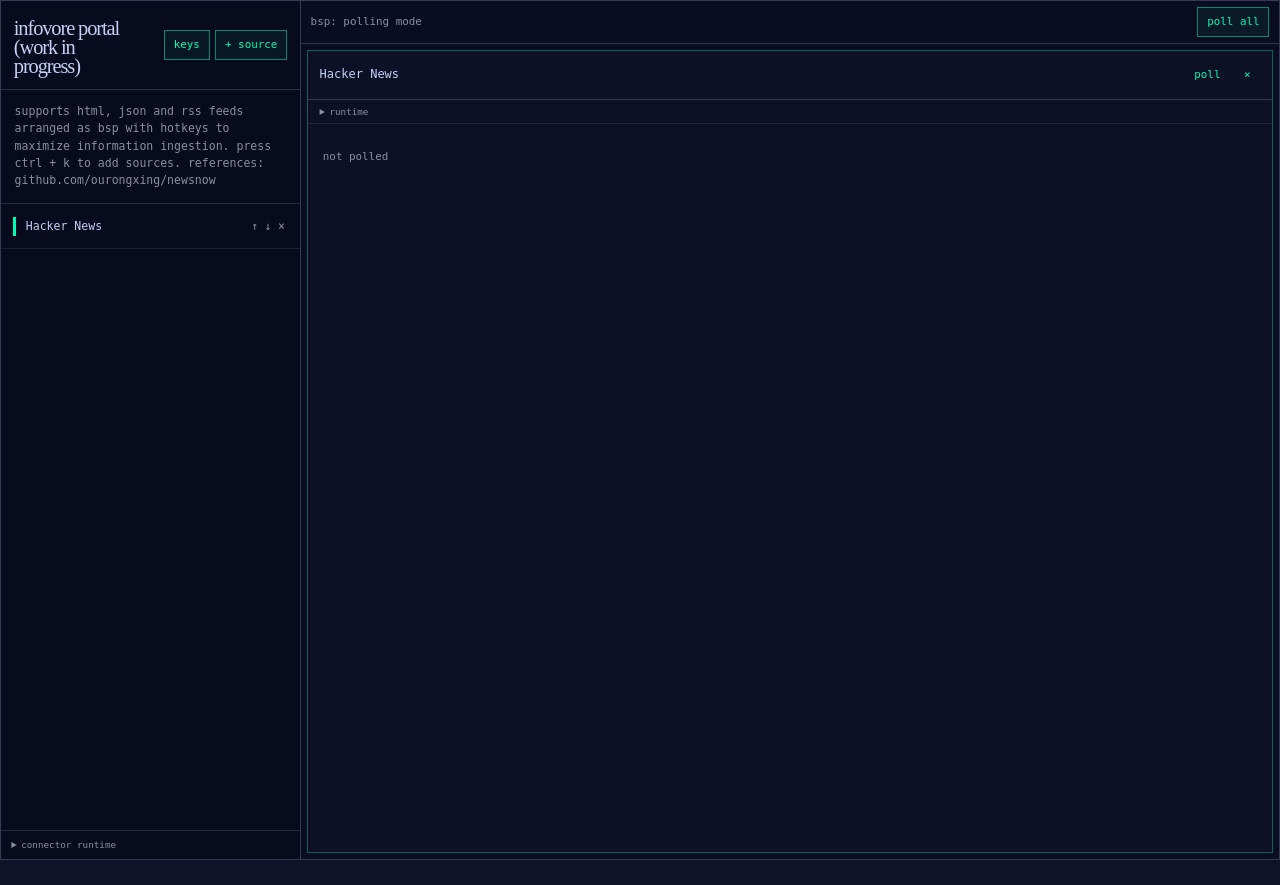
Scenario: SourcesTab manual runtime flow › edits and saves Vimium-safe keybind settings in the sidebar
The width and height of the screenshot is (1280, 885).
Expected: the text "not polled" is shown, [323, 150, 388, 163]
Click the button "keys" at {"x": 187, "y": 45}, box [164, 30, 210, 60]
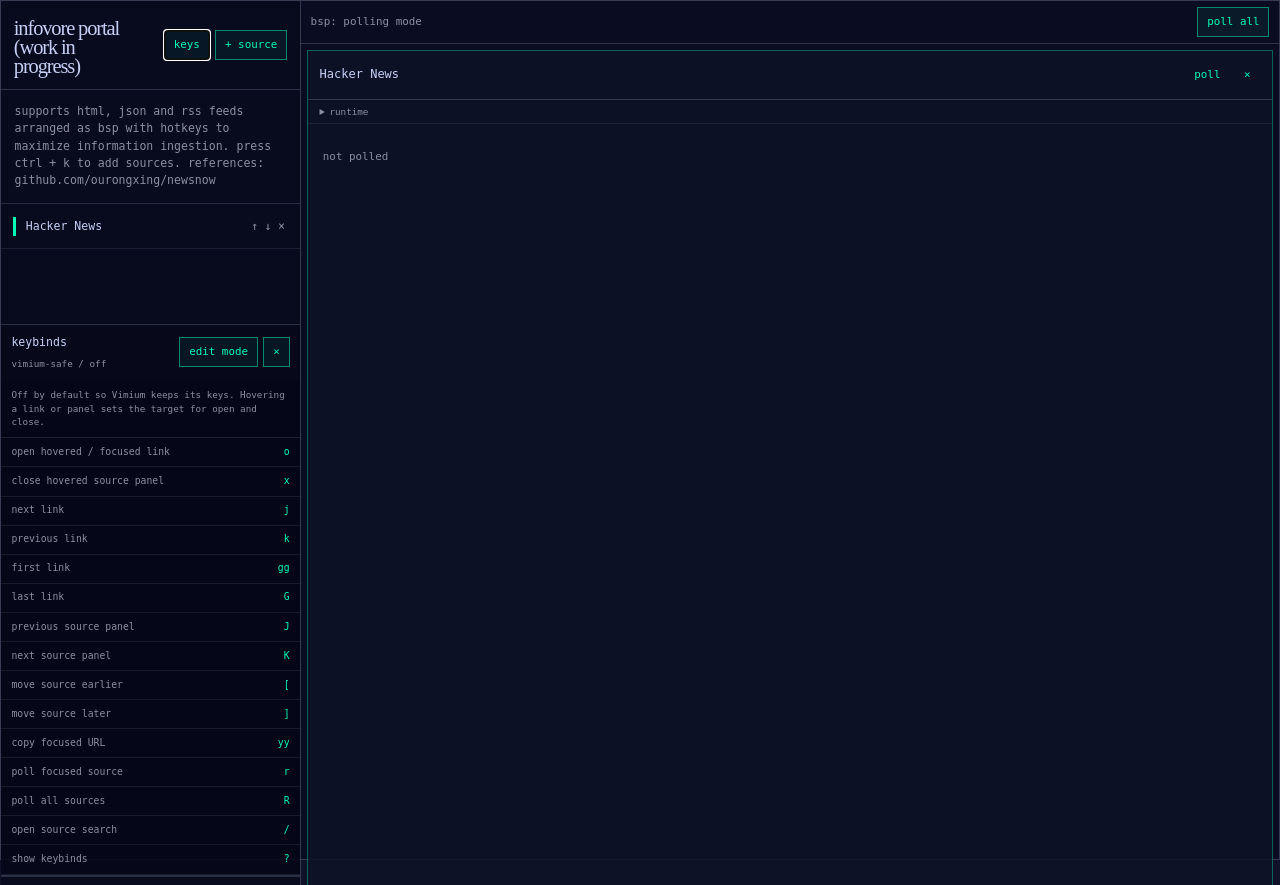
Now the text "vimium-safe / off" is shown, box [11, 357, 106, 371]
Click the button "edit mode" at {"x": 219, "y": 352}, box [179, 337, 258, 368]
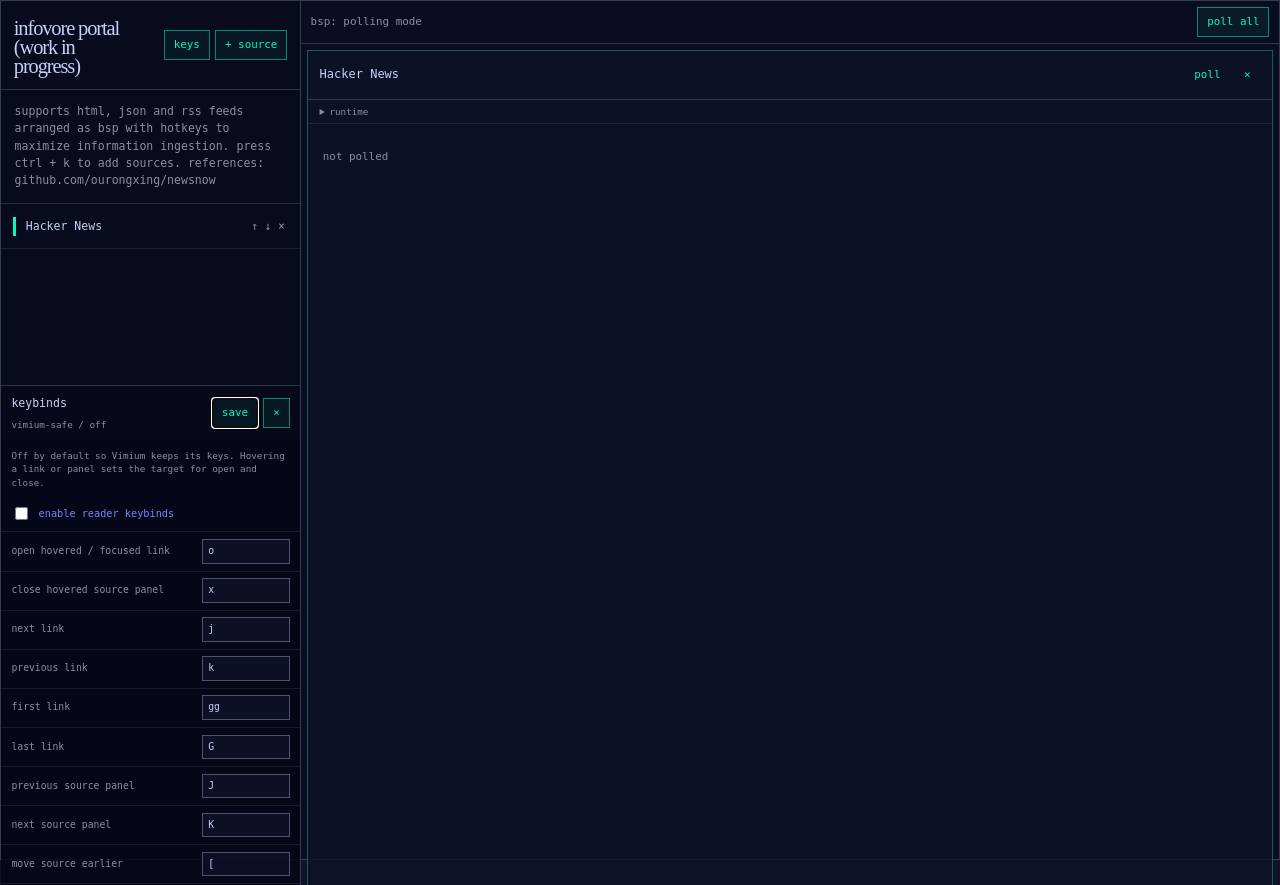
Click the checkbox labelled "enable reader keybinds" at {"x": 22, "y": 513}, box [15, 507, 28, 520]
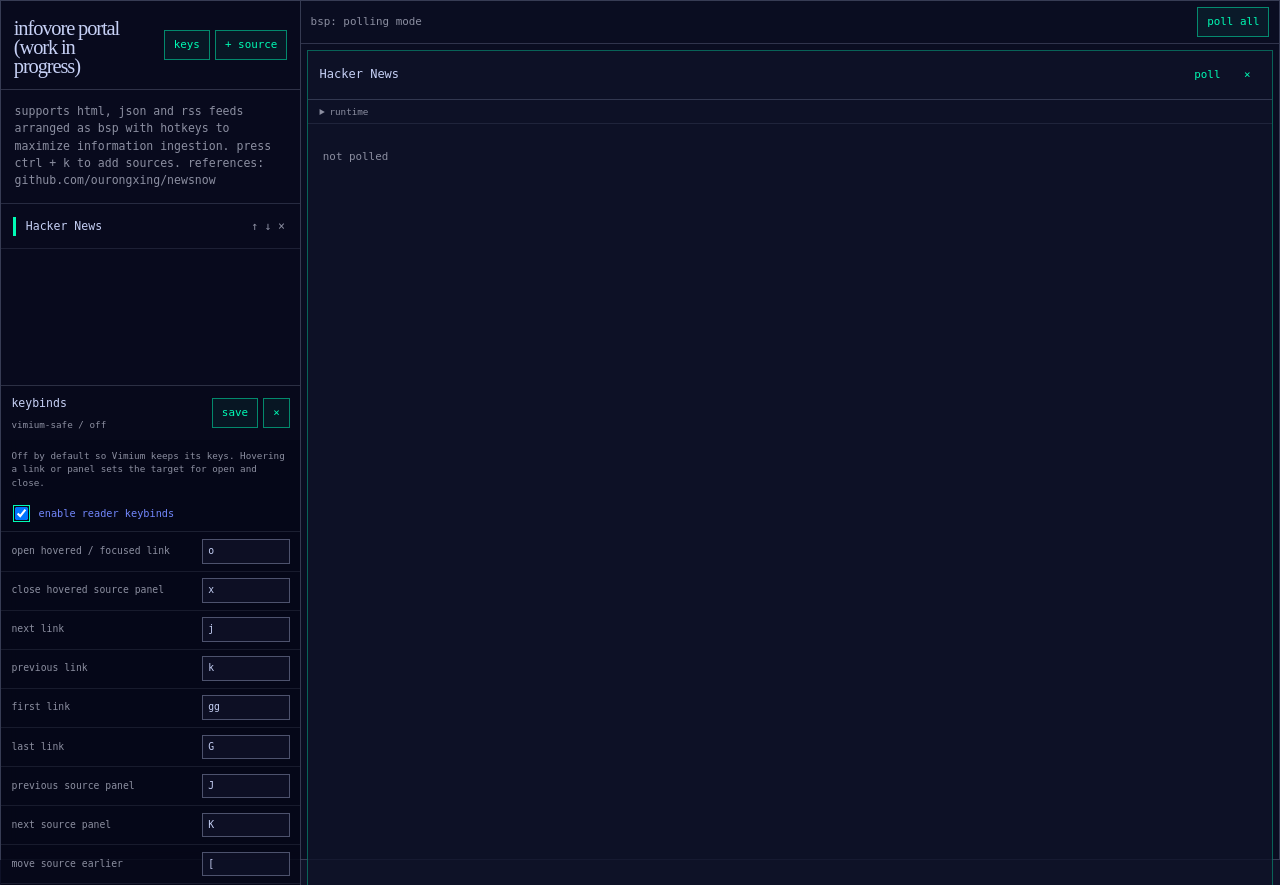
Replace the text in the field named "open hovered / focused link keybind" with "v" at {"x": 246, "y": 552}, box [202, 539, 290, 564]
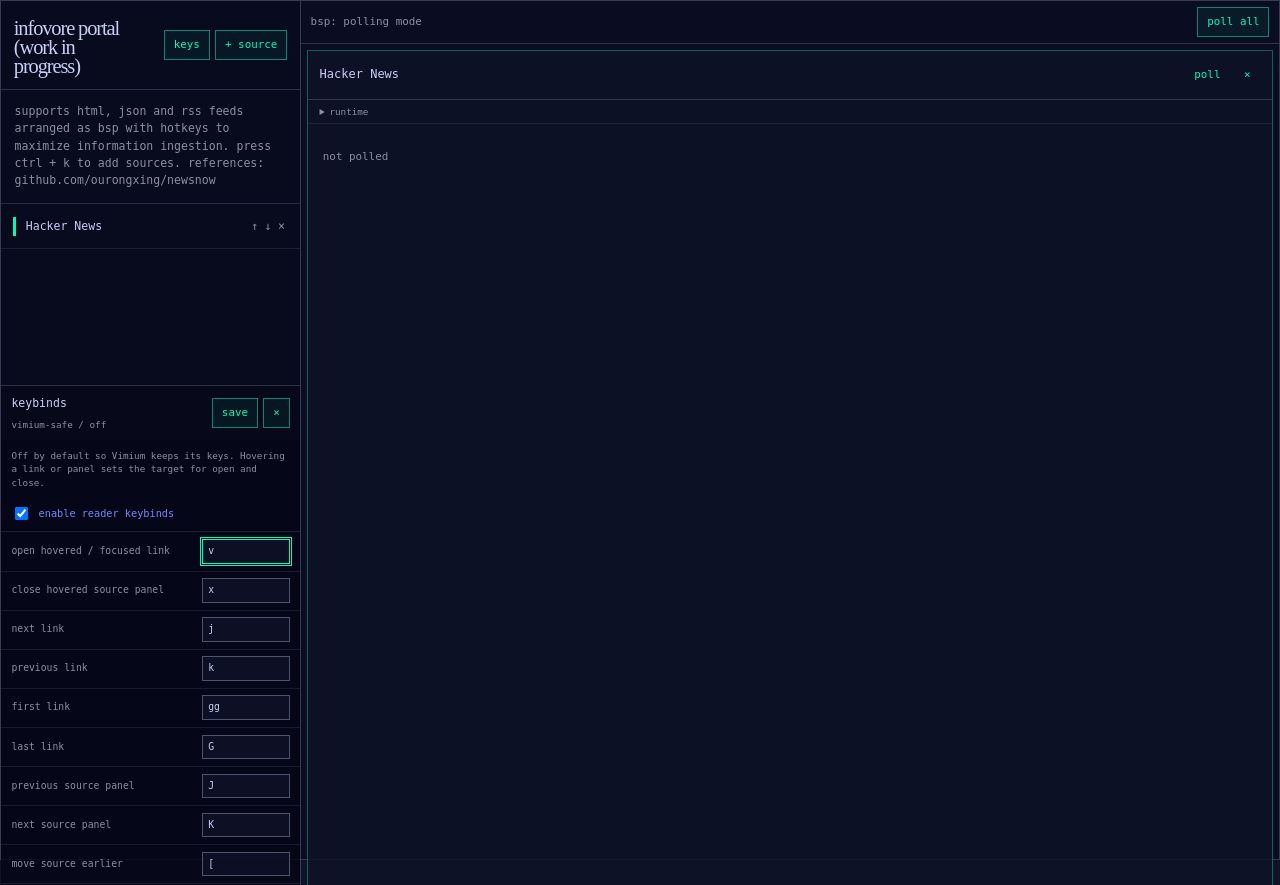
Click the button "save" at {"x": 235, "y": 413}, box [212, 398, 258, 428]
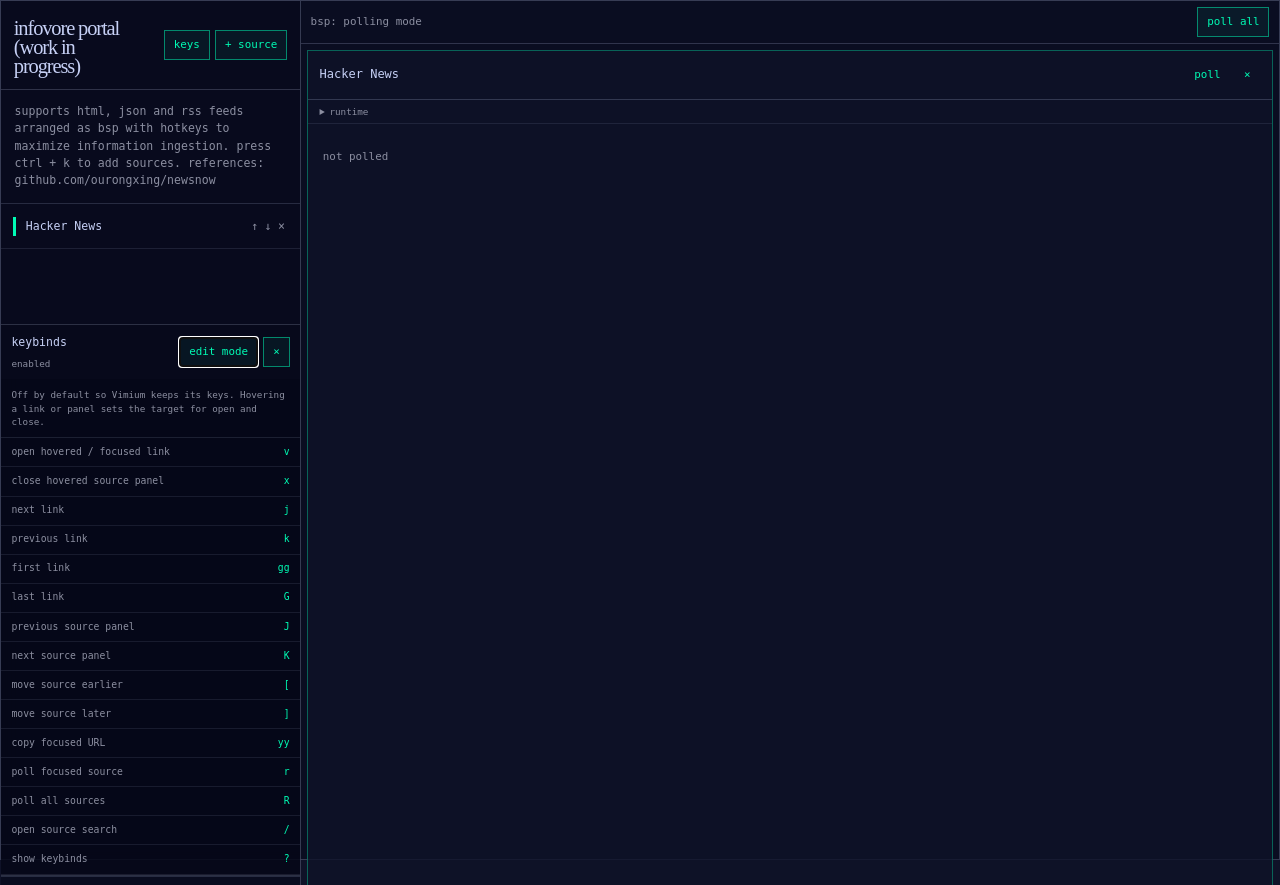
Now the text "enabled" is shown, box [11, 357, 50, 371]
